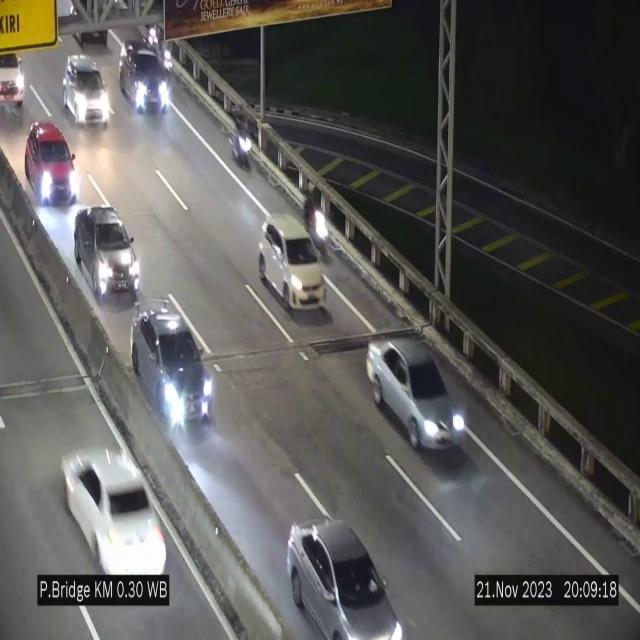Car: (54, 438, 180, 598), (288, 520, 406, 639), (125, 298, 216, 430), (367, 336, 469, 450), (258, 214, 326, 317), (77, 205, 143, 303), (18, 117, 80, 207), (118, 29, 172, 119), (63, 54, 111, 126), (0, 39, 35, 110)
Motorcycle: (304, 183, 334, 254), (232, 102, 254, 171)
